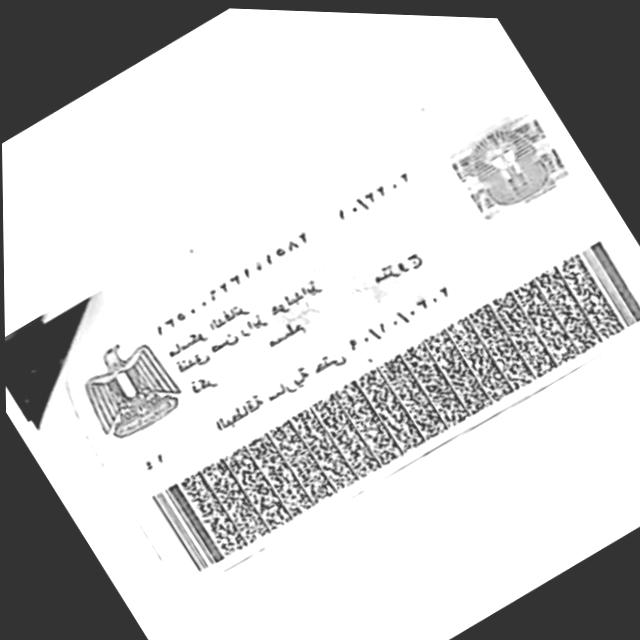back: (40, 75, 640, 580)
